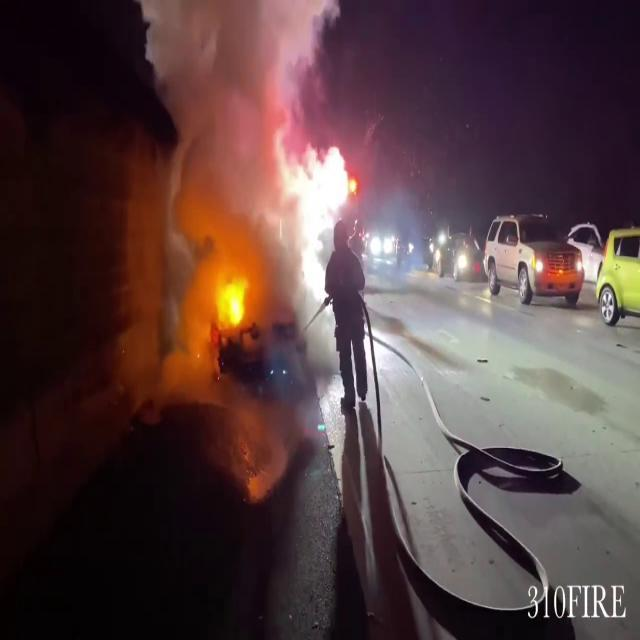Fire: (208, 266, 254, 340)
Smoke: (134, 1, 352, 347)
